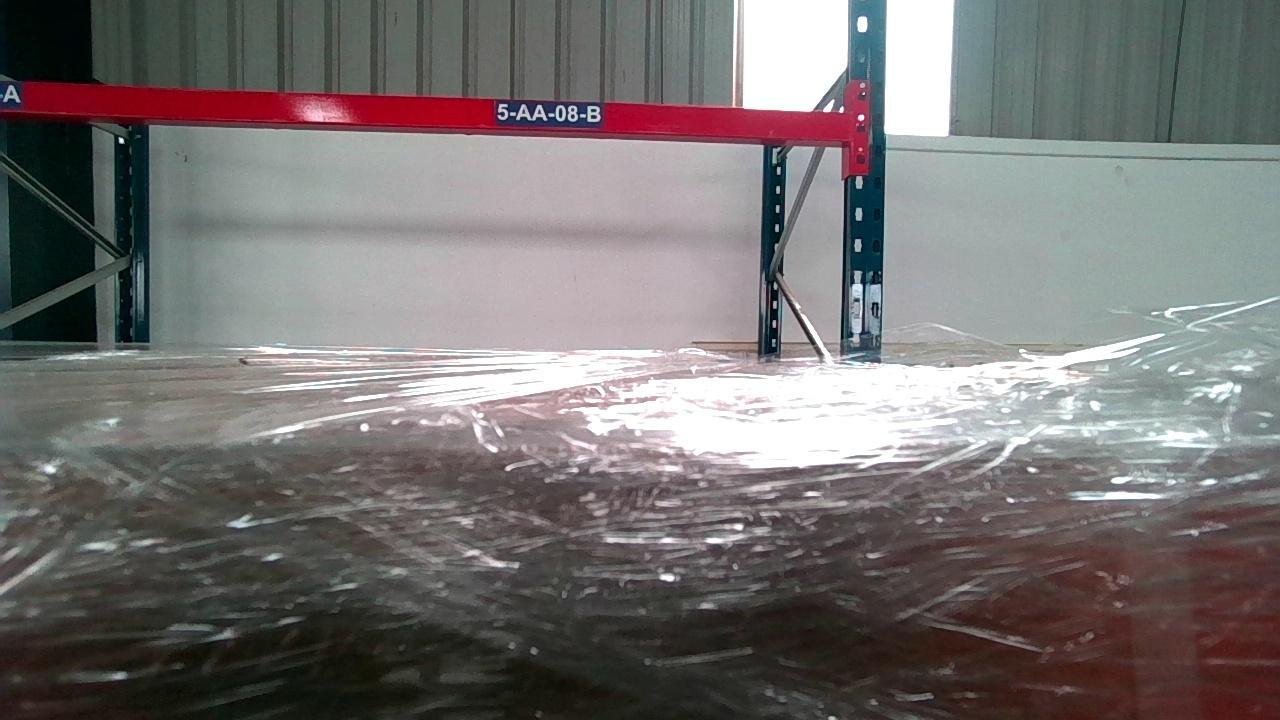h_rack: (0, 79, 854, 141)
